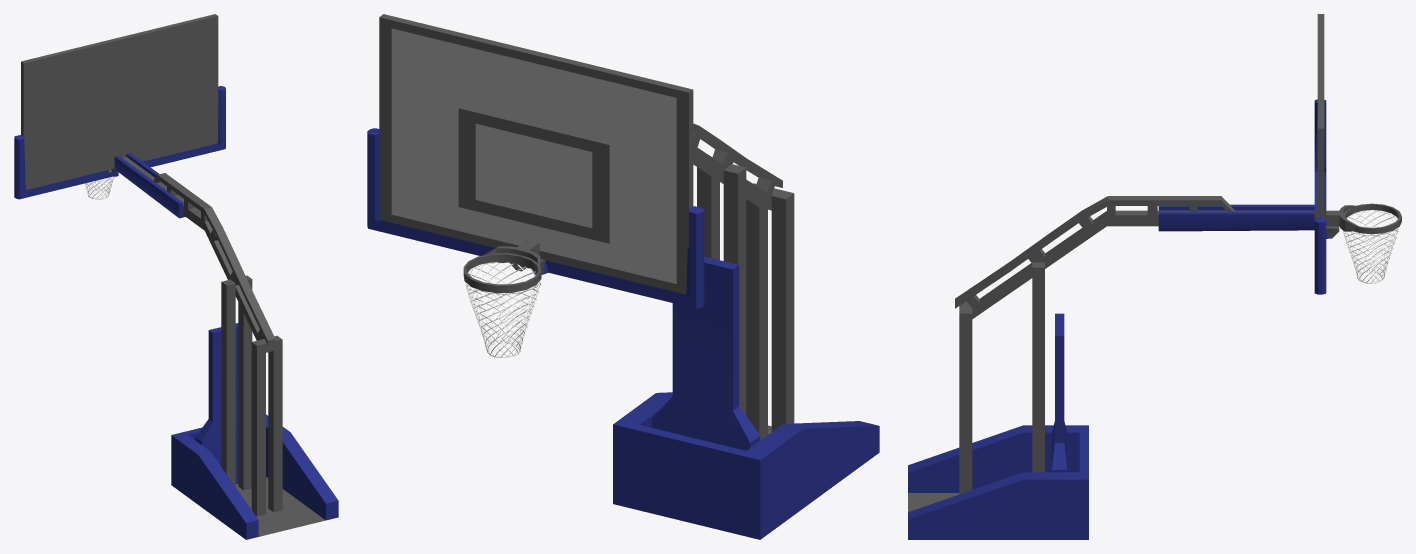
Rendered from ring.glb.
The picture shows the model from 3 angles, left to right: view 1: azimuth 30°, elevation 25°; view 2: azimuth 150°, elevation 25°; view 3: azimuth 270°, elevation 25°; orthographic projection. The views are drawn at different scales.
Visible parts, largest first — view 1: Plane; view 2: Plane; view 3: Plane.
Boxes of the visible parts, x1=… form: Plane: x1=14, y1=14, x2=338, y2=539; Plane: x1=367, y1=14, x2=879, y2=539; Plane: x1=908, y1=14, x2=1401, y2=539.
Size of the model in its own units: 9.85 by 16.37 by 16.64.
Materials: 3 (3 with a texture image).
